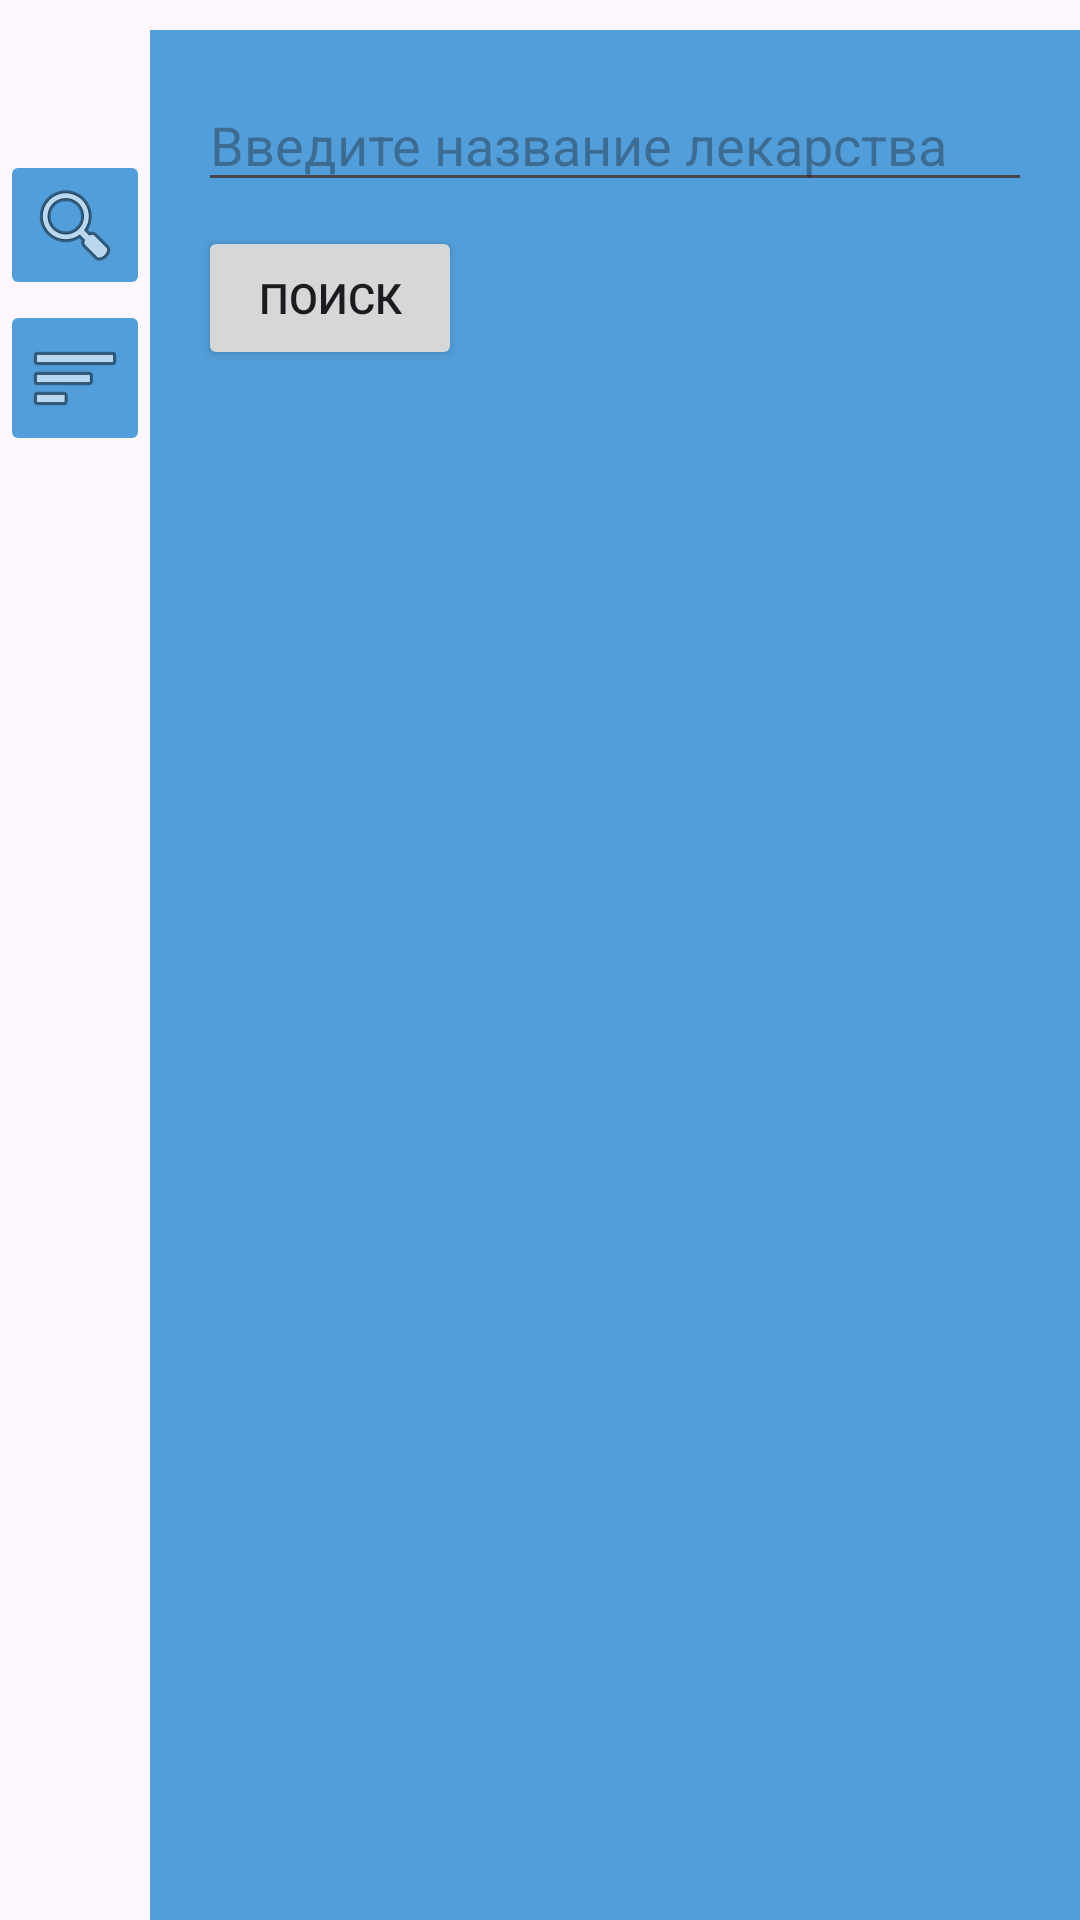

Icons on this 1080w x 1920h Android screen, each with its box as (x1, y1, x2, y2):
search: (12, 168, 138, 282)
sort by size: (12, 318, 138, 438)
